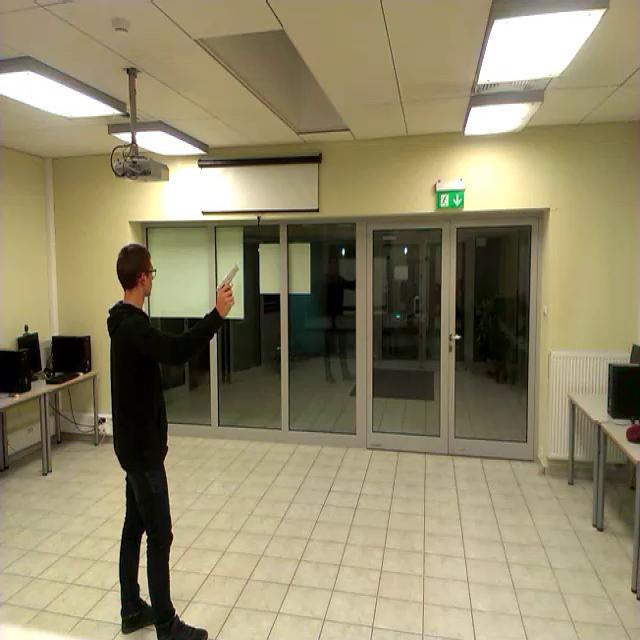Gun: (215, 262, 238, 300)
